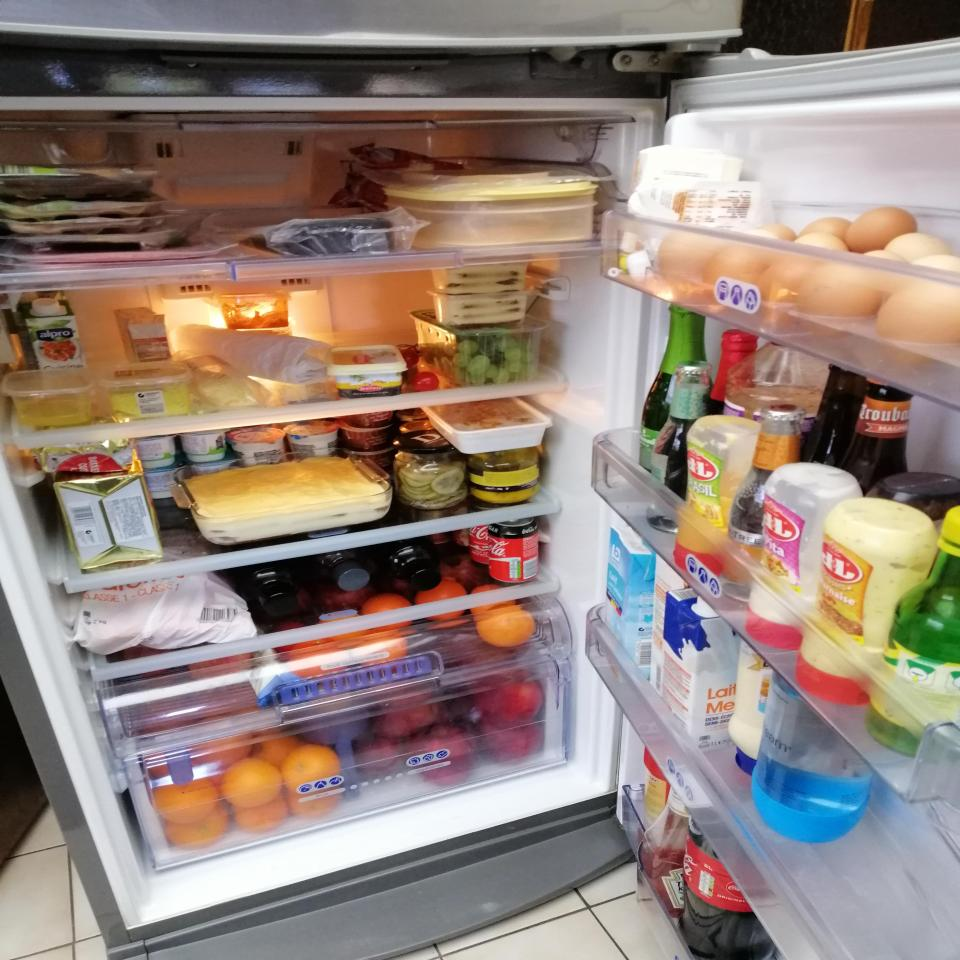Huevos: (662, 206, 960, 367)
Leche: (664, 587, 742, 753)
Mantequilla: (54, 460, 162, 570), (29, 439, 134, 476)
Manzana: (407, 723, 476, 787), (474, 669, 543, 728), (479, 719, 544, 766), (373, 689, 438, 736), (351, 733, 402, 774)
Tomate: (412, 372, 440, 392)
ketchup: (642, 784, 700, 917)
mayonnaise: (728, 638, 782, 776)
orange: (145, 729, 343, 848), (477, 607, 535, 648), (289, 640, 348, 678), (414, 581, 468, 621), (361, 594, 413, 630), (358, 633, 408, 667), (469, 584, 518, 616)
